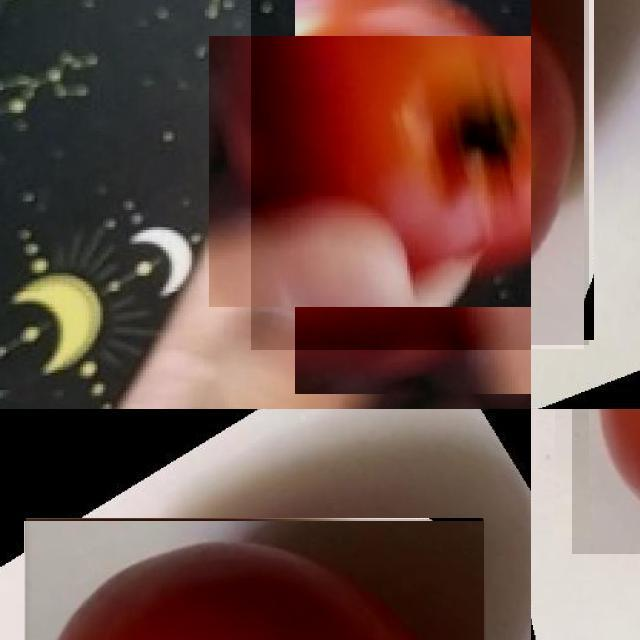Fresh Tomato: (251, 0, 531, 350), (24, 519, 484, 640), (531, 0, 589, 344), (572, 409, 640, 554)
